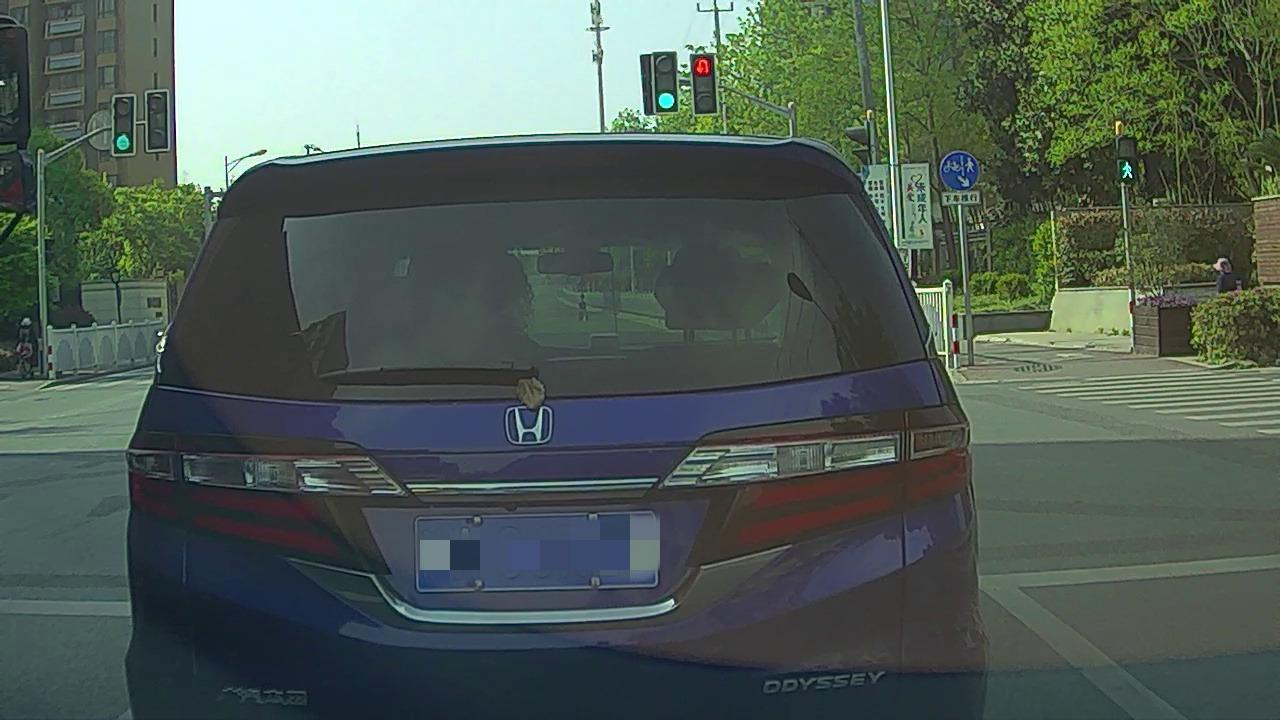traffic_light: (654, 53, 678, 114), (693, 53, 716, 114), (146, 90, 168, 148), (114, 96, 133, 154)
